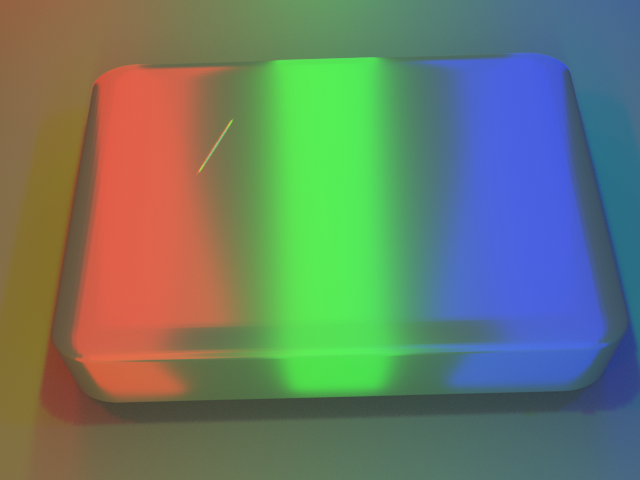scratch: (63, 62, 340, 214)
